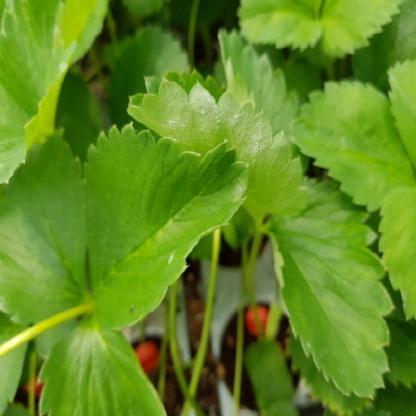Strawberry_Powdery_Mildew_Leaf: (80, 122, 250, 336), (126, 67, 310, 230)
